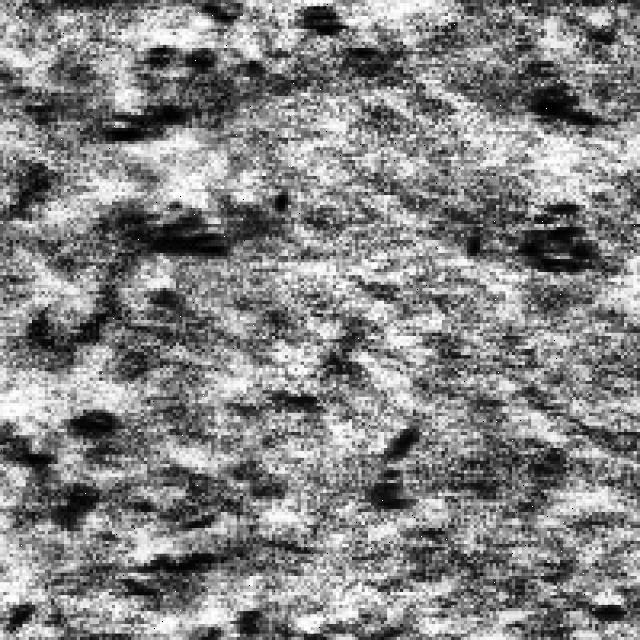Crazing: (6, 320, 228, 608), (96, 0, 250, 157), (508, 186, 596, 282)
